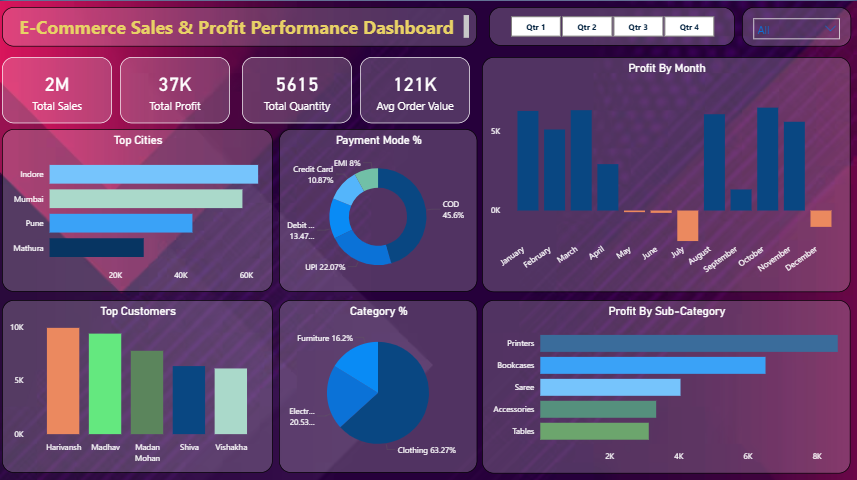

What the dashboard file says about the page in this screenshot:
{"tool":"powerbi","page":{"name":"Page 1","canvas":[1280,720],"ordinal":0},"visuals":[{"type":"textbox","box":[2.9,8.6,708.6,58.6],"z":0},{"type":"columnChart","title":"Profit By Month","fields":{"Category":["Orders.Order Date.Variation.Date Hierarchy.Month"],"Y":["Sum(Details.Profit)"]},"box":[720,82.9,550,351.4],"z":1000},{"type":"barChart","title":"Profit By Sub-Category","fields":{"Category":["Details.Sub-Category"],"Y":["Sum(Details.Profit)"]},"box":[720,445.7,550,258.6],"z":2000},{"type":"pieChart","title":"Category %","fields":{"Category":["Details.Category"],"Y":["CountNonNull(Details.Order ID)"]},"box":[416.4,446.3,295.5,258.2],"z":3000},{"type":"donutChart","title":"Payment Mode %","fields":{"Y":["CountNonNull(Details.Order ID)"],"Category":["Details.PaymentMode"]},"box":[415.7,191.4,295.7,242.9],"z":4000},{"type":"card","fields":{"Values":["Details.Total Sales"]},"box":[2.9,82.9,164.3,98.6],"z":5000},{"type":"barChart","title":"Top Cities","fields":{"Category":["Orders.City"],"Y":["Sum(Details.Amount)"]},"box":[2.9,191.4,404.3,242.9],"z":6000},{"type":"columnChart","title":"Top Customers","fields":{"Category":["Orders.CustomerName"],"Y":["Sum(Details.Amount)"]},"box":[3,446.3,404.5,258.2],"z":7000},{"type":"slicer","fields":{"Values":["Orders.Order Date.Variation.Date Hierarchy.Quarter"]},"box":[729.9,9,367.2,58.2],"z":8000},{"type":"slicer","fields":{"Values":["Orders.City"]},"box":[1107.1,8.6,162.9,58.6],"z":9000},{"type":"card","fields":{"Values":["Details.Total Profit"]},"box":[178.6,82.9,164.3,98.6],"z":10000},{"type":"card","fields":{"Values":["Details.Total Quantity"]},"box":[361.4,82.9,164.3,98.6],"z":11000},{"type":"card","fields":{"Values":["Details.Total AOV"]},"box":[537.1,82.9,164.3,98.6],"z":12000}]}

Visuals, with their boxes in screenshot pixels (x1, y1, x2, y2), scaled from the page's 1280x720 canvas onto the 857x480 screenshot:
textbox: [x1=2, y1=6, x2=476, y2=45]
"Profit By Month" columnChart: [x1=482, y1=55, x2=850, y2=290]
"Profit By Sub-Category" barChart: [x1=482, y1=297, x2=850, y2=470]
"Category %" pieChart: [x1=279, y1=298, x2=477, y2=470]
"Payment Mode %" donutChart: [x1=278, y1=128, x2=476, y2=290]
card - Details.Total Sales: [x1=2, y1=55, x2=112, y2=121]
"Top Cities" barChart: [x1=2, y1=128, x2=273, y2=290]
"Top Customers" columnChart: [x1=2, y1=298, x2=273, y2=470]
slicer - Orders.Order Date.Variation.Date Hierarchy.Quarter: [x1=489, y1=6, x2=735, y2=45]
slicer - Orders.City: [x1=741, y1=6, x2=850, y2=45]
card - Details.Total Profit: [x1=120, y1=55, x2=230, y2=121]
card - Details.Total Quantity: [x1=242, y1=55, x2=352, y2=121]
card - Details.Total AOV: [x1=360, y1=55, x2=470, y2=121]
